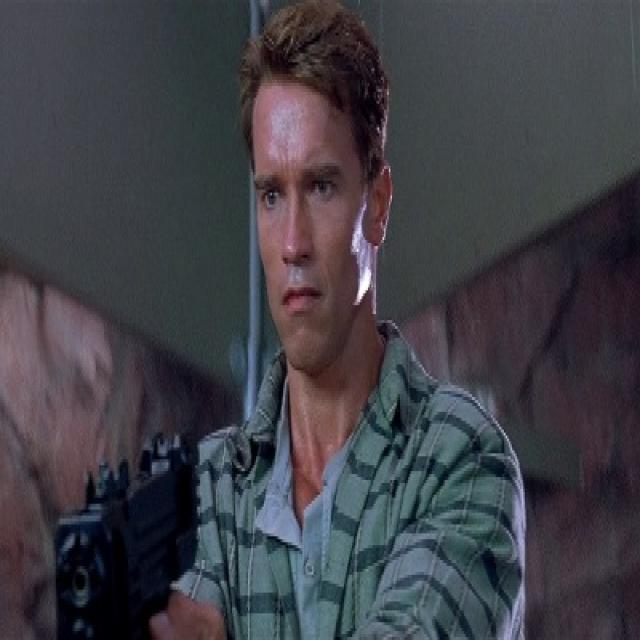rifle: (49, 424, 211, 633)
